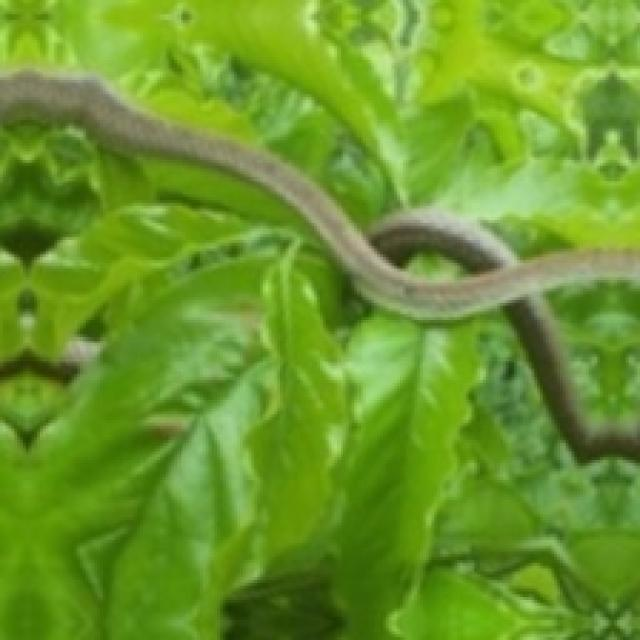paradise tree snake: (0, 69, 637, 457)
